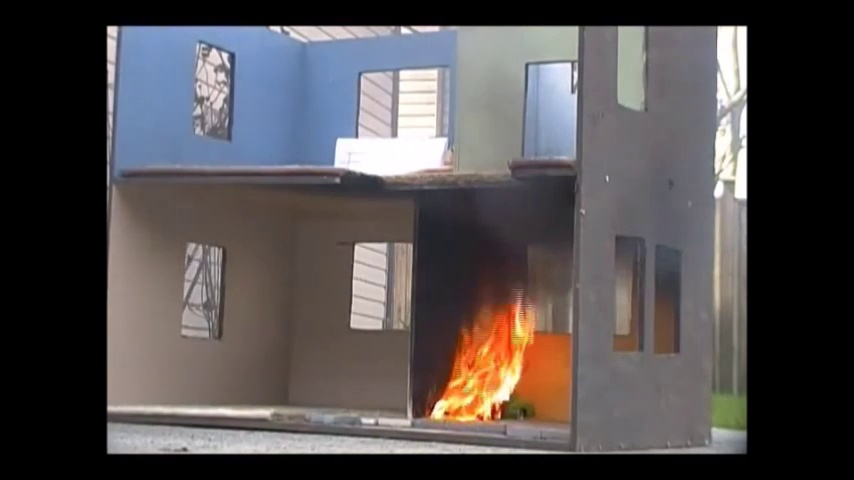fire: (439, 302, 527, 418)
